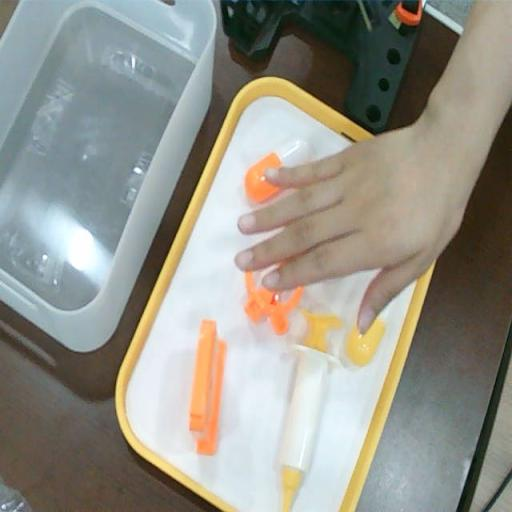hospital: (232, 123, 458, 330)
